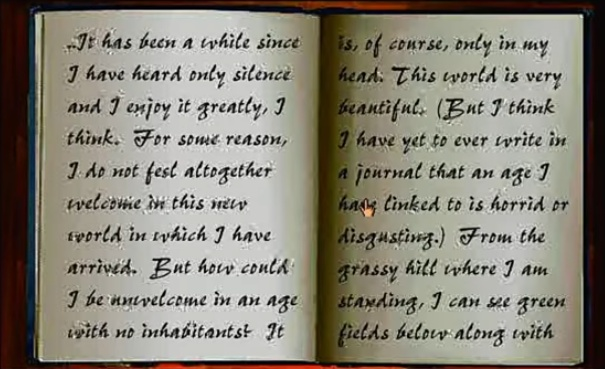Pointer: (356, 197, 379, 219)
